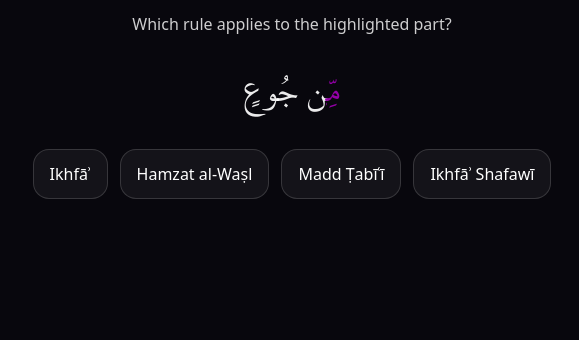
Scenario: RuleIdentifier › moves to the next item with a fresh, unlocked question
What coordinates should you click on to do the following:
click the button "Ikhfāʾ"
I would click on:
 (70, 174)
Its box is x1=32 y1=149 x2=108 y2=199.
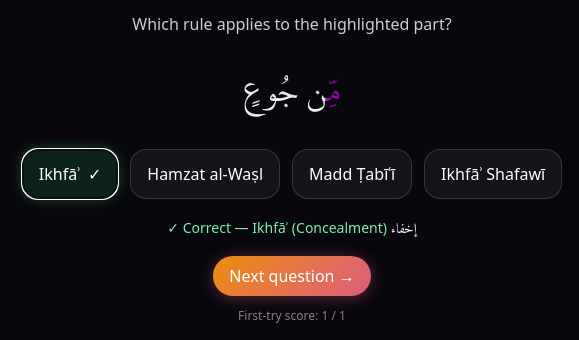
What coordinates should you click on to do the following:
click the button "Next question →"
I would click on:
 (292, 276)
Its box is x1=213 y1=256 x2=371 y2=296.
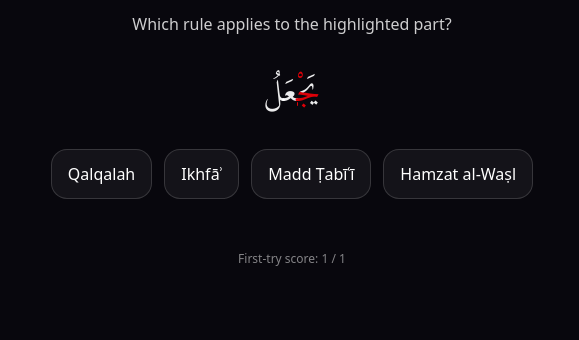
expect the picture labelled "يَجْعَلُ" is shown: met, box x1=264 y1=59 x2=320 y2=122
expect the button "Qalqalah" is shown: met, box x1=51 y1=149 x2=152 y2=199
